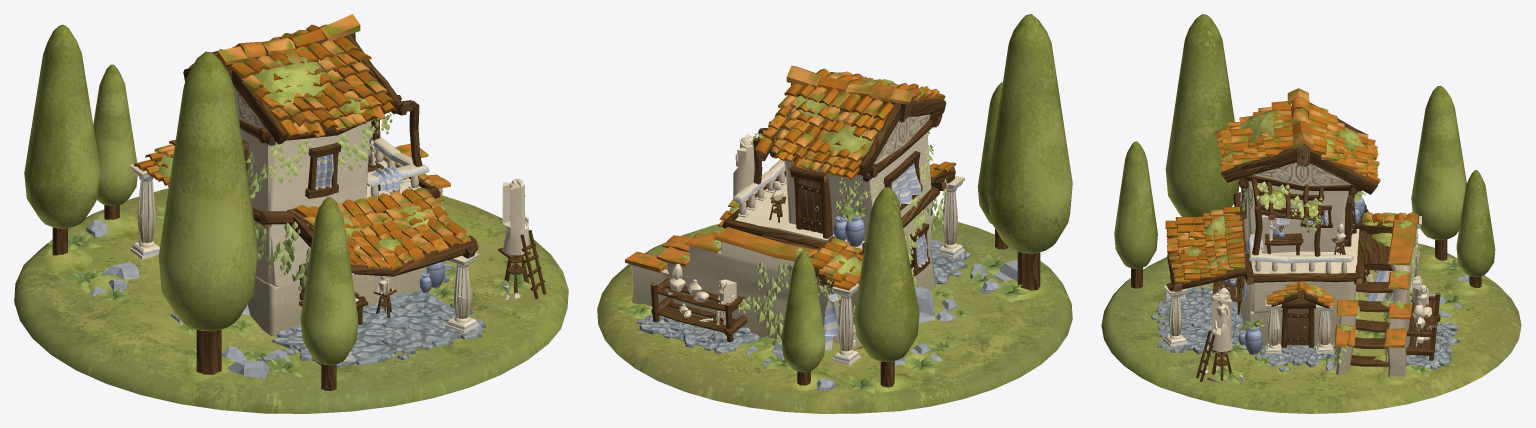
File: house-transformed.glb
3 renders of one model, left to right at view 1: azimuth 30°, elevation 25°; view 2: azimuth 150°, elevation 25°; view 3: azimuth 270°, elevation 25°, orthographic. The views are drawn at different scales.
Parts seen in each view (by area): view 1: ambientLight4_VegetationTEX_0, ambientLight4_HouseTEX_0, ambientLight4_GroundTEX_0; view 2: ambientLight4_HouseTEX_0, ambientLight4_VegetationTEX_0, ambientLight4_GroundTEX_0; view 3: ambientLight4_HouseTEX_0, ambientLight4_VegetationTEX_0, ambientLight4_GroundTEX_0.
Part boxes in pixels (x1,y1,x2,y2): ambientLight4_VegetationTEX_0: [24, 24, 532, 382]; ambientLight4_HouseTEX_0: [52, 14, 546, 390]; ambientLight4_GroundTEX_0: [14, 188, 568, 413]; ambientLight4_HouseTEX_0: [625, 65, 1040, 387]; ambientLight4_VegetationTEX_0: [618, 14, 1072, 393]; ambientLight4_GroundTEX_0: [597, 216, 1072, 413]; ambientLight4_HouseTEX_0: [1131, 88, 1481, 383]; ambientLight4_VegetationTEX_0: [1114, 14, 1495, 386]; ambientLight4_GroundTEX_0: [1101, 243, 1521, 413].
Size of the model in its own units: 3.01 by 2 by 3.01.
3 materials, 3 textured.
